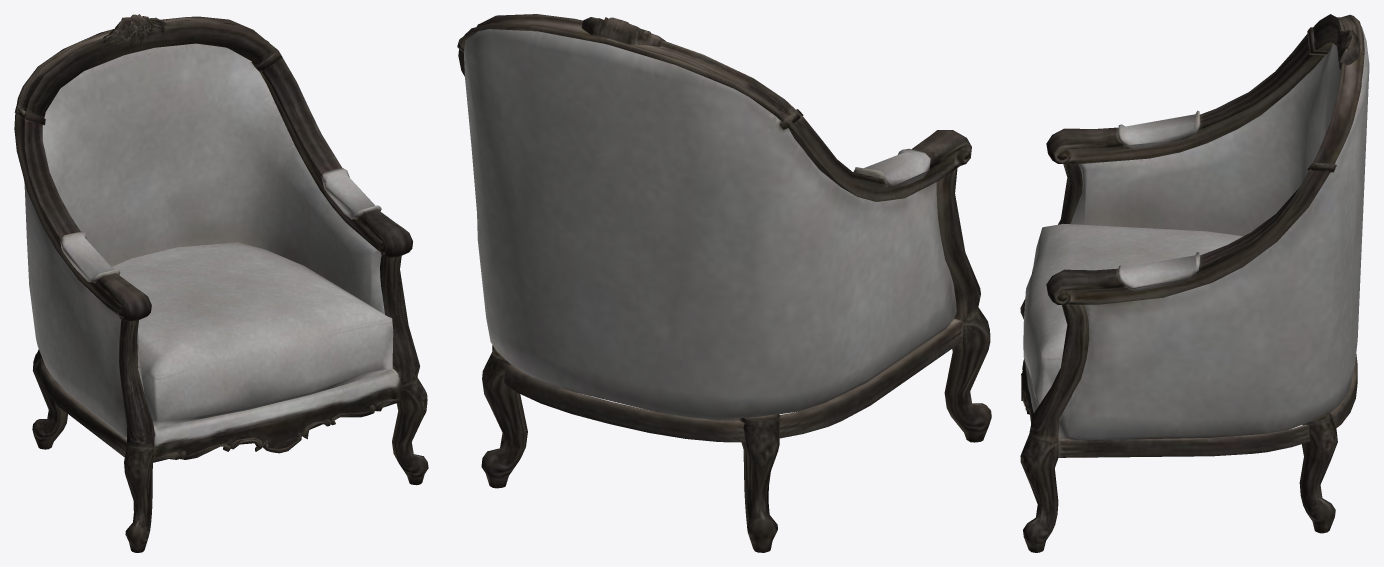
File: ArmChair_01.glb
3 renders of one model, left to right at view 1: azimuth 30°, elevation 25°; view 2: azimuth 150°, elevation 25°; view 3: azimuth 270°, elevation 25°, orthographic. The views are drawn at different scales.
Parts seen in each view (by area): view 1: ArmChair_01; view 2: ArmChair_01; view 3: ArmChair_01.
Boxes of the visible parts, x1,y1,x2,y2 form: ArmChair_01: (14,14,428,552); ArmChair_01: (457,14,991,552); ArmChair_01: (1020,14,1369,552).
Bounding box in the file's own units: 0.8482 × 1.06 × 0.7658.
1 material, 1 textured.
